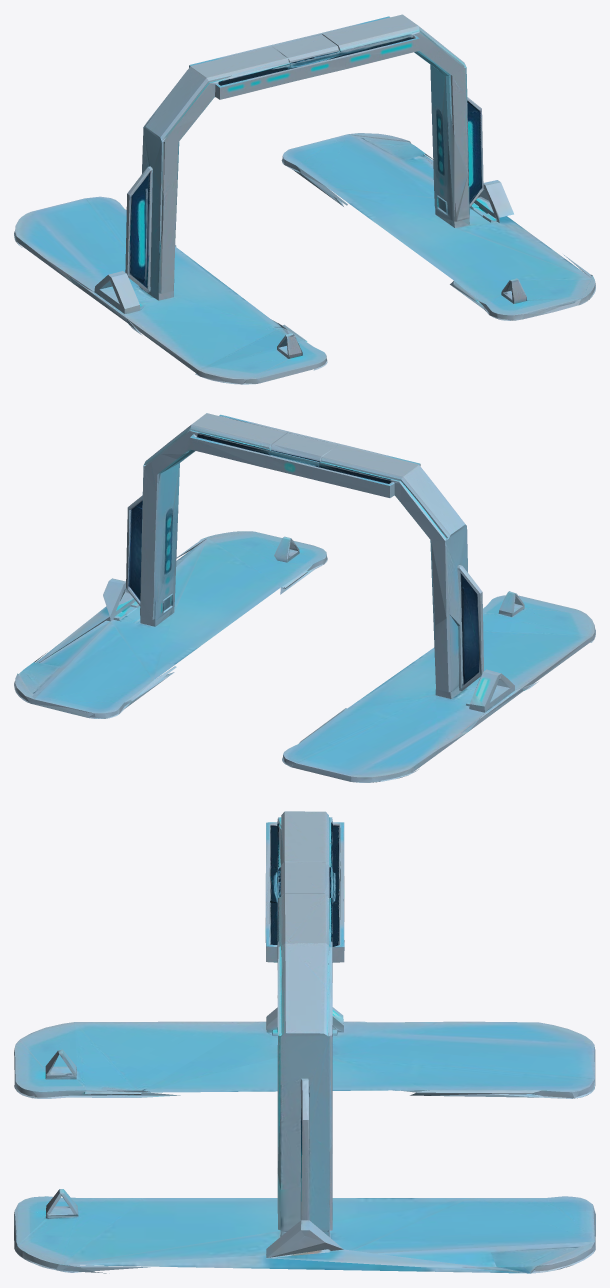
The model's file is arch.glb.
3 views of the same model, one above another, from view 1: azimuth 30°, elevation 25°; view 2: azimuth 150°, elevation 25°; view 3: azimuth 270°, elevation 25° (orthographic). The views are drawn at different scales.
Size of the model in its own units: 1.9 by 0.9865 by 1.9.
Materials: 1 (1 with a texture image).
